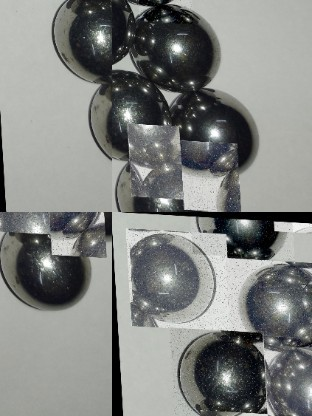ironball: (127, 227, 230, 318), (135, 1, 226, 95), (224, 256, 312, 345), (175, 329, 265, 415), (174, 95, 264, 173), (2, 236, 91, 313), (82, 75, 163, 154), (52, 0, 134, 76), (176, 138, 238, 210), (190, 215, 294, 257), (261, 333, 312, 415), (141, 161, 181, 209), (130, 128, 179, 163), (116, 161, 148, 209), (135, 0, 192, 21), (45, 212, 99, 232), (71, 225, 108, 254), (0, 212, 50, 232), (127, 300, 159, 326)
